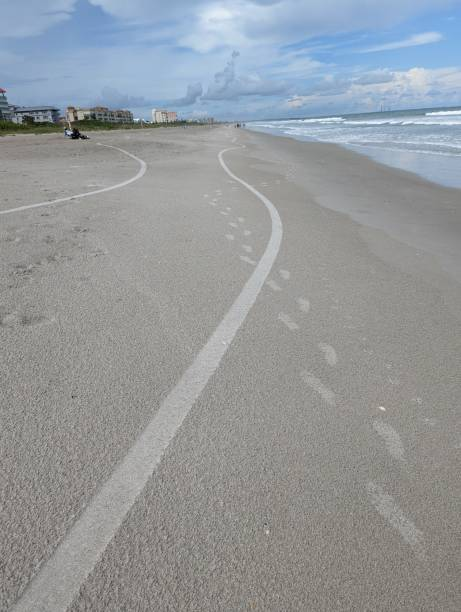vehicle_track: (27, 160, 283, 605), (18, 142, 147, 230)
